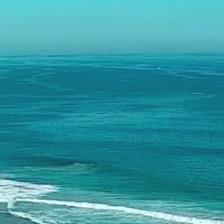surfer: (190, 182, 193, 186), (220, 189, 223, 193)
